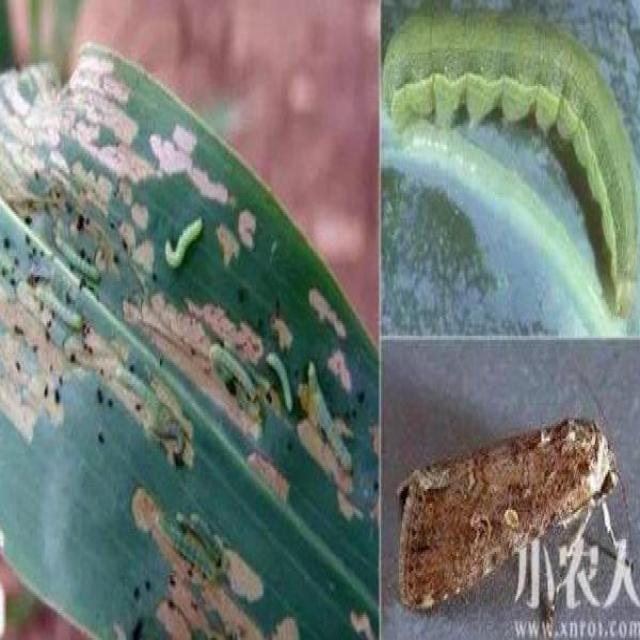BeetArmyWorm-Adult-: (396, 412, 627, 618)
BeetArmyWorm-Larva-: (384, 3, 638, 312), (307, 358, 359, 476), (204, 336, 259, 415), (176, 507, 224, 575), (34, 282, 88, 342), (162, 208, 205, 278), (264, 342, 300, 422), (53, 230, 102, 288), (161, 416, 192, 461)
